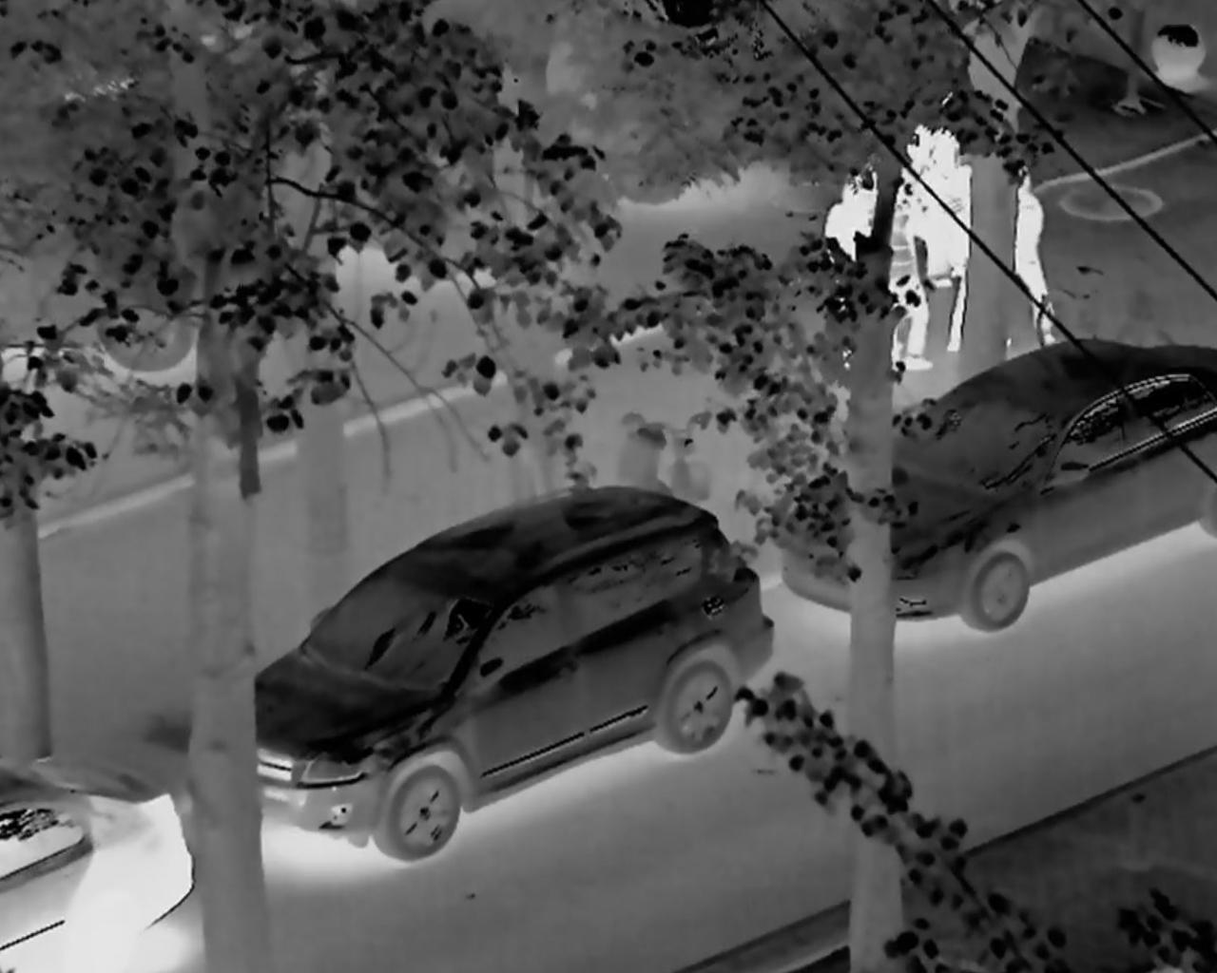person: (997, 165, 1066, 327), (884, 184, 934, 381), (923, 128, 973, 321), (827, 165, 868, 309)
